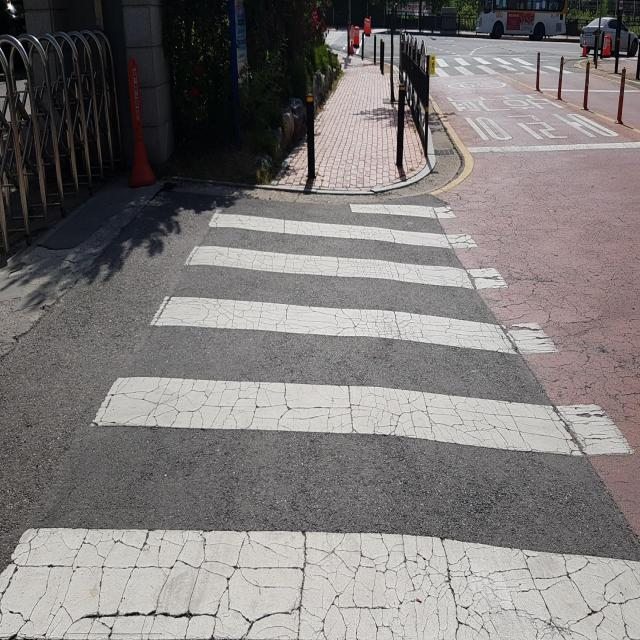횡단보도: (0, 199, 640, 640), (429, 48, 576, 77)
